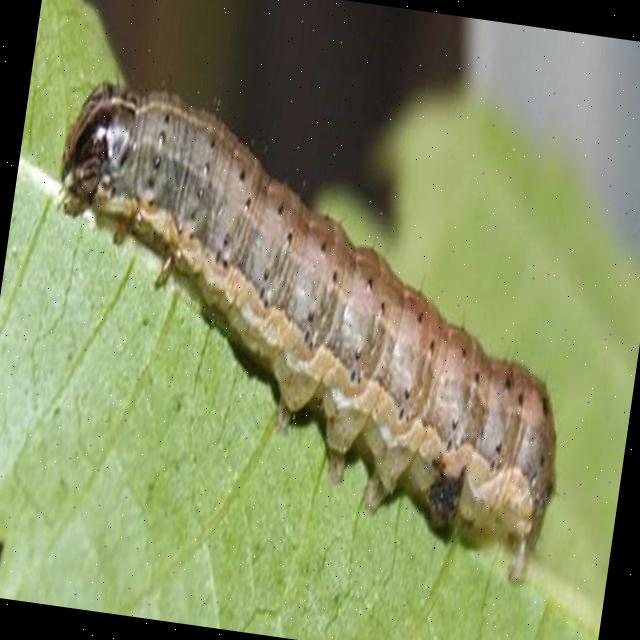worm: (9, 75, 606, 596)
